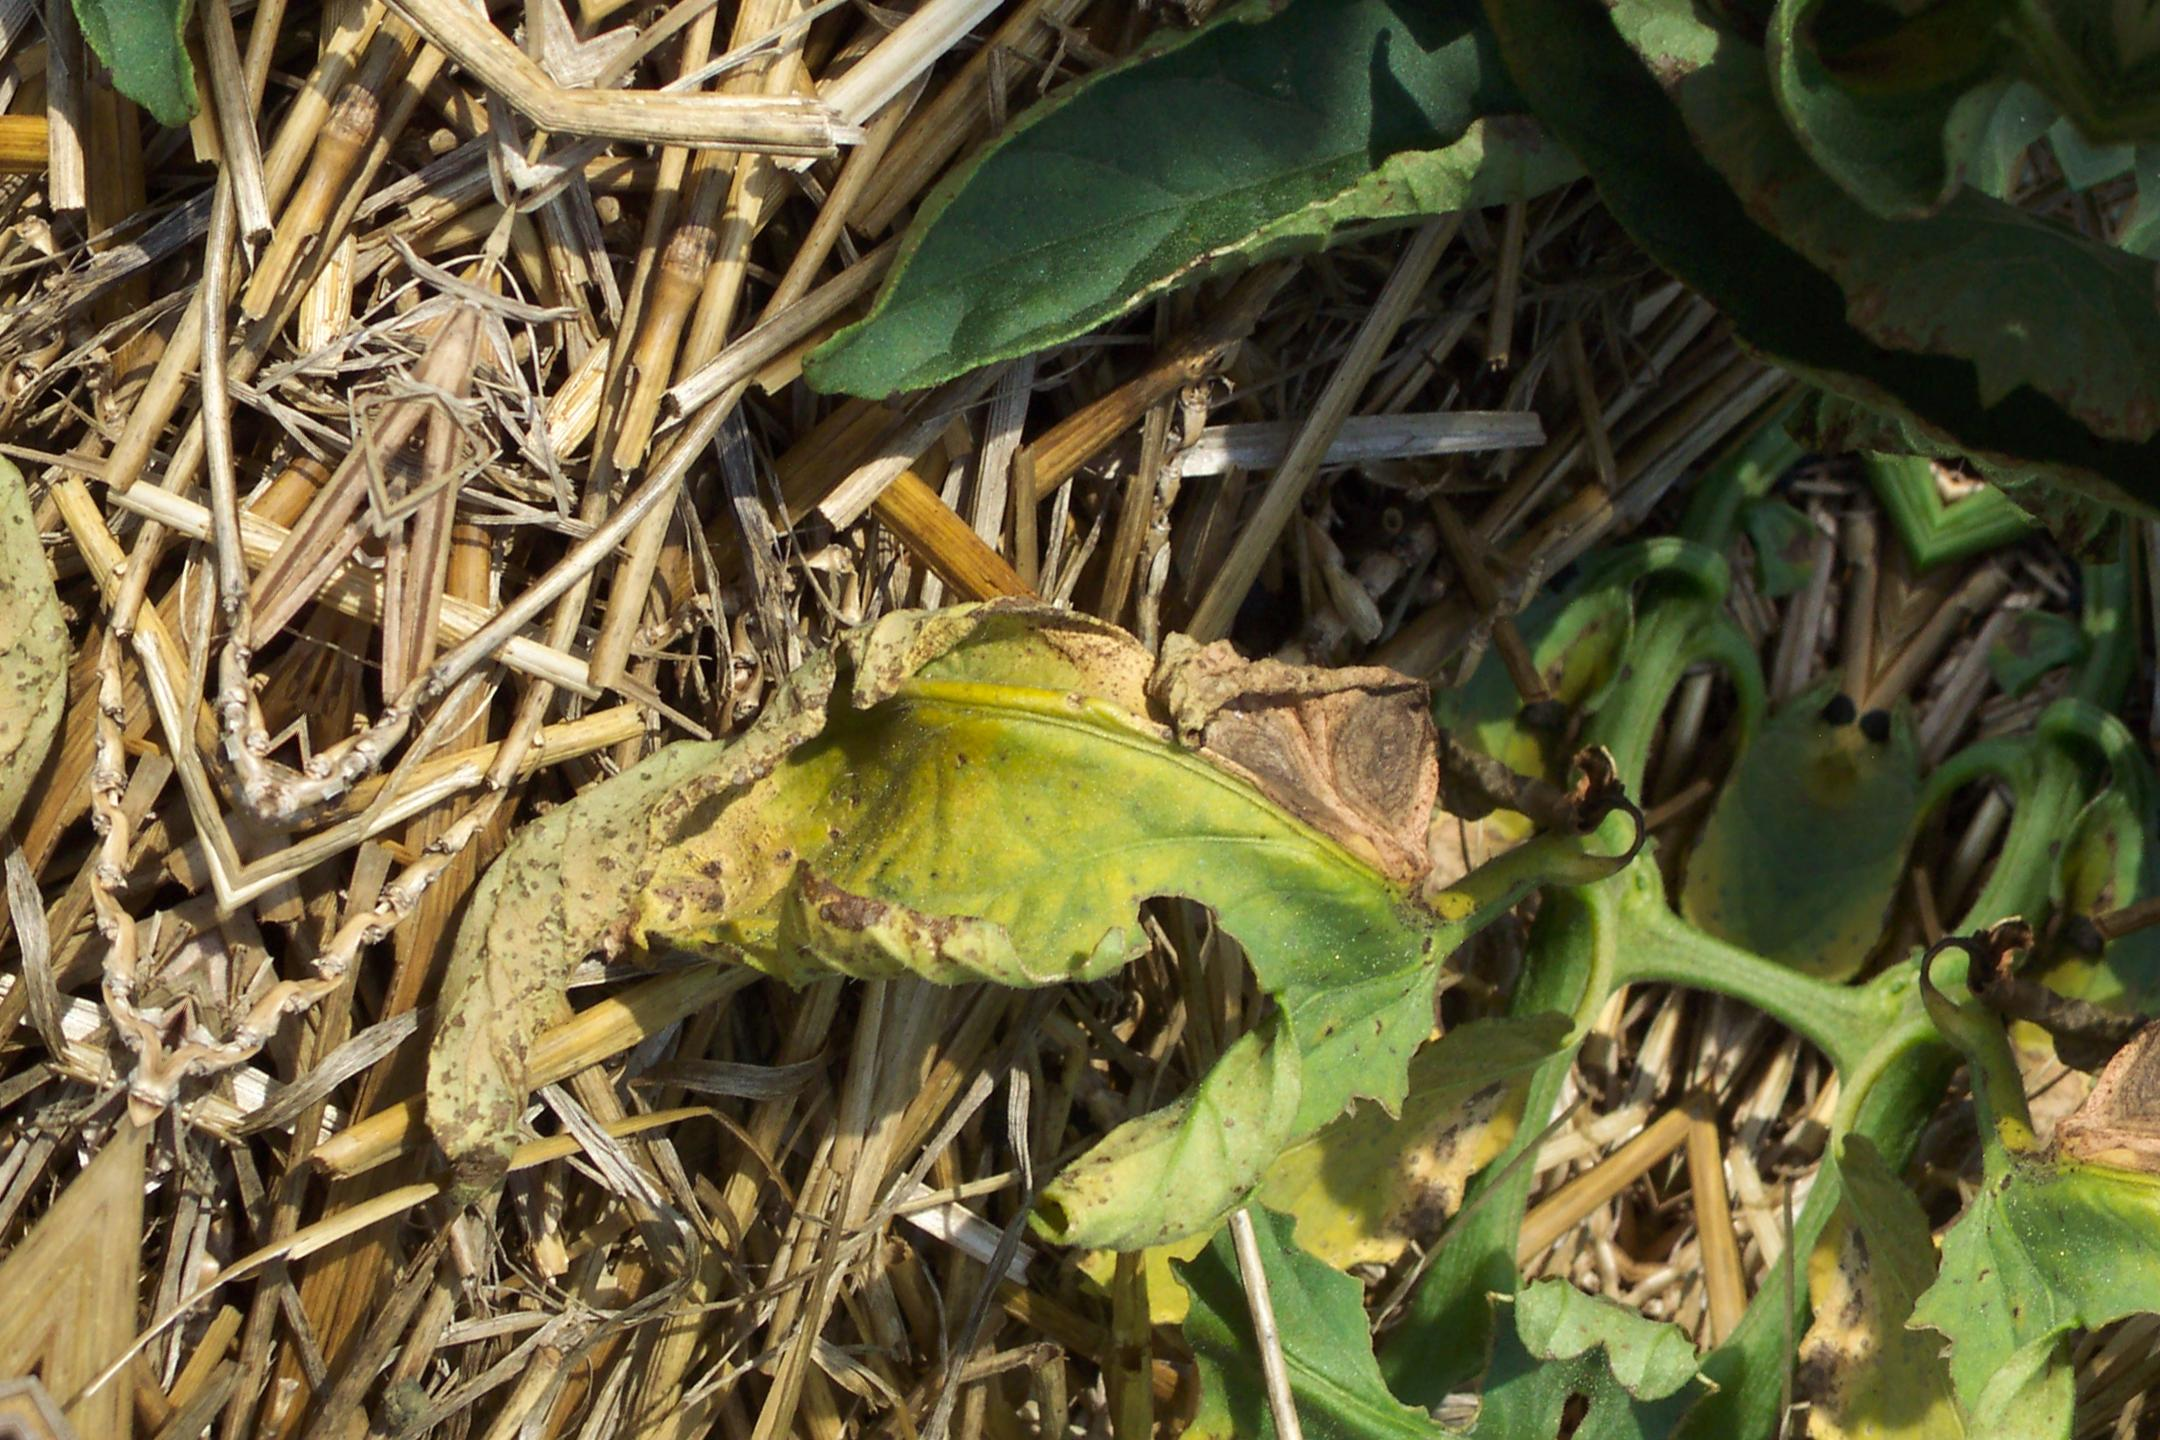Tomato Early blight leaf: (386, 352, 1621, 1440)
